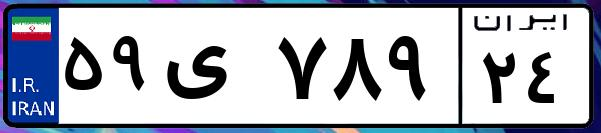2: (475, 38, 525, 113)
4: (525, 38, 570, 115)
5: (57, 26, 110, 100)
7: (270, 28, 330, 110)
8: (330, 28, 385, 110)
9: (385, 28, 445, 110), (110, 28, 158, 98)
ی: (158, 20, 270, 120)
